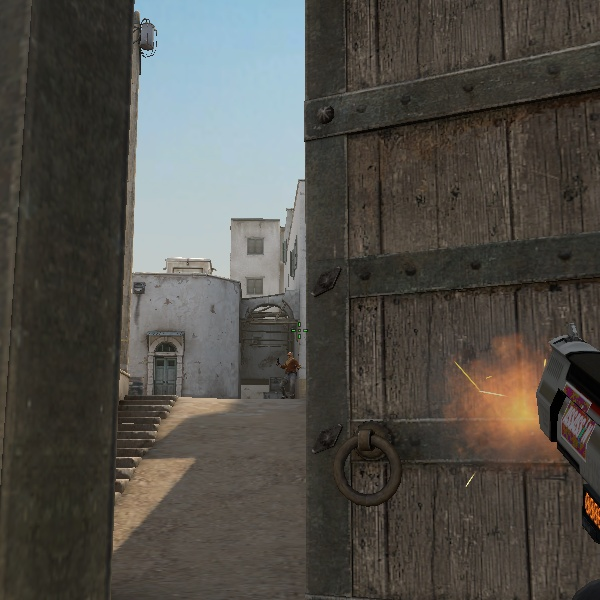t_body: (273, 346, 301, 398)
